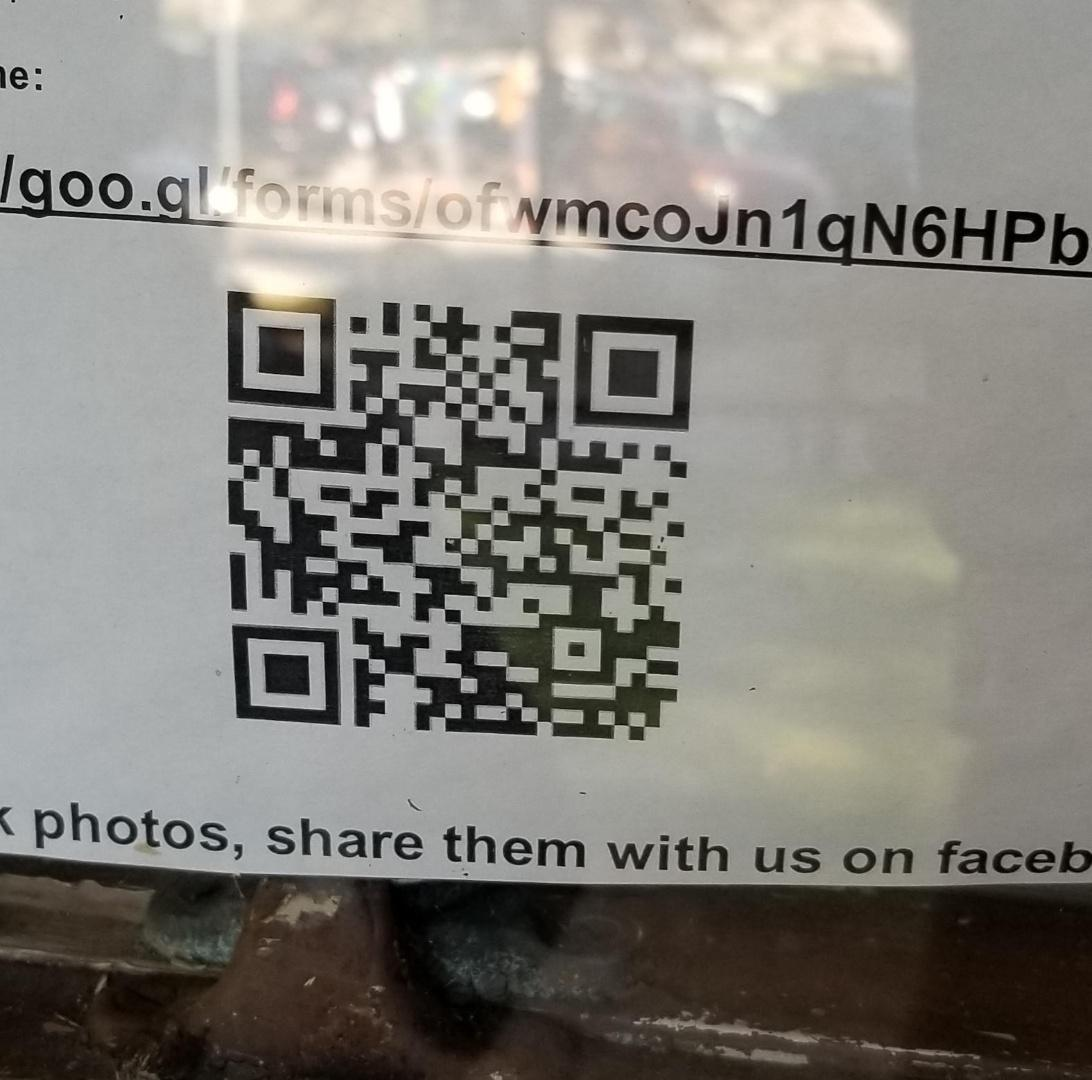qr_code: (227, 290, 694, 741)
